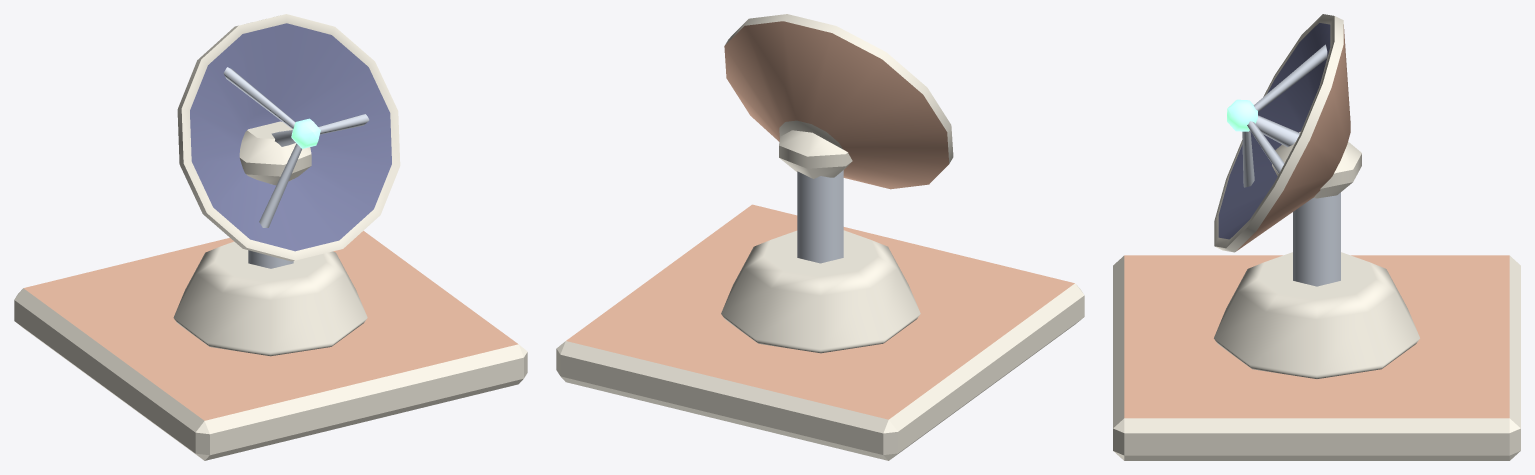
File: R4X_Radar_LOD1.fbx
3 renders of one model, left to right at view 1: azimuth 30°, elevation 25°; view 2: azimuth 150°, elevation 25°; view 3: azimuth 270°, elevation 25°, orthographic. The views are drawn at different scales.
Parts seen in each view (by area): view 1: R4X_Radar_LOD1; view 2: R4X_Radar_LOD1; view 3: R4X_Radar_LOD1.
Part boxes in pixels (x1=…): R4X_Radar_LOD1: x1=14, y1=14, x2=527, y2=460; R4X_Radar_LOD1: x1=556, y1=14, x2=1084, y2=460; R4X_Radar_LOD1: x1=1113, y1=14, x2=1520, y2=460.
Size of the model in its own units: 0.52 by 0.4941 by 0.52.
